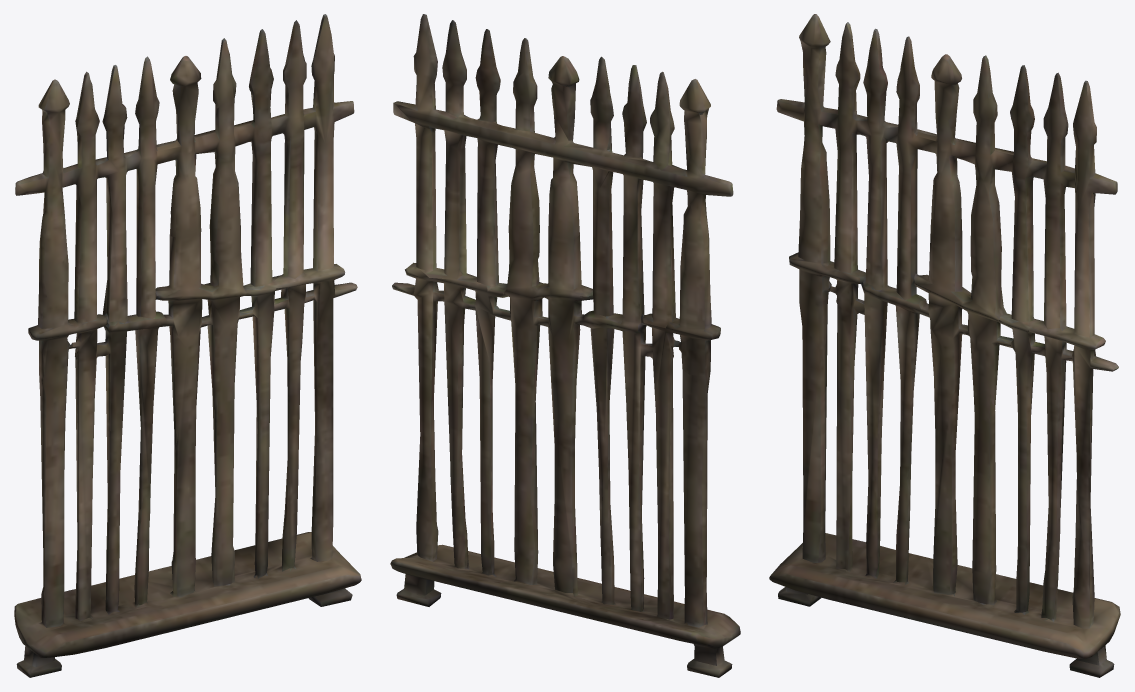
The model's file is chipped-wood-weapon-rack-v001.glb.
The picture shows the model from 3 angles, left to right: view 1: azimuth 30°, elevation 25°; view 2: azimuth 150°, elevation 25°; view 3: azimuth 330°, elevation 25°; orthographic projection.
Parts seen in each view (by area): view 1: chipped-wood-weapon-rack; view 2: chipped-wood-weapon-rack; view 3: chipped-wood-weapon-rack.
Part boxes in pixels (x1,y1,x2,y2): chipped-wood-weapon-rack: (14,14,361,677); chipped-wood-weapon-rack: (390,14,740,677); chipped-wood-weapon-rack: (769,14,1120,677).
Size of the model in its own units: 1.12 by 1.84 by 0.2376.
1 material, 1 textured.
